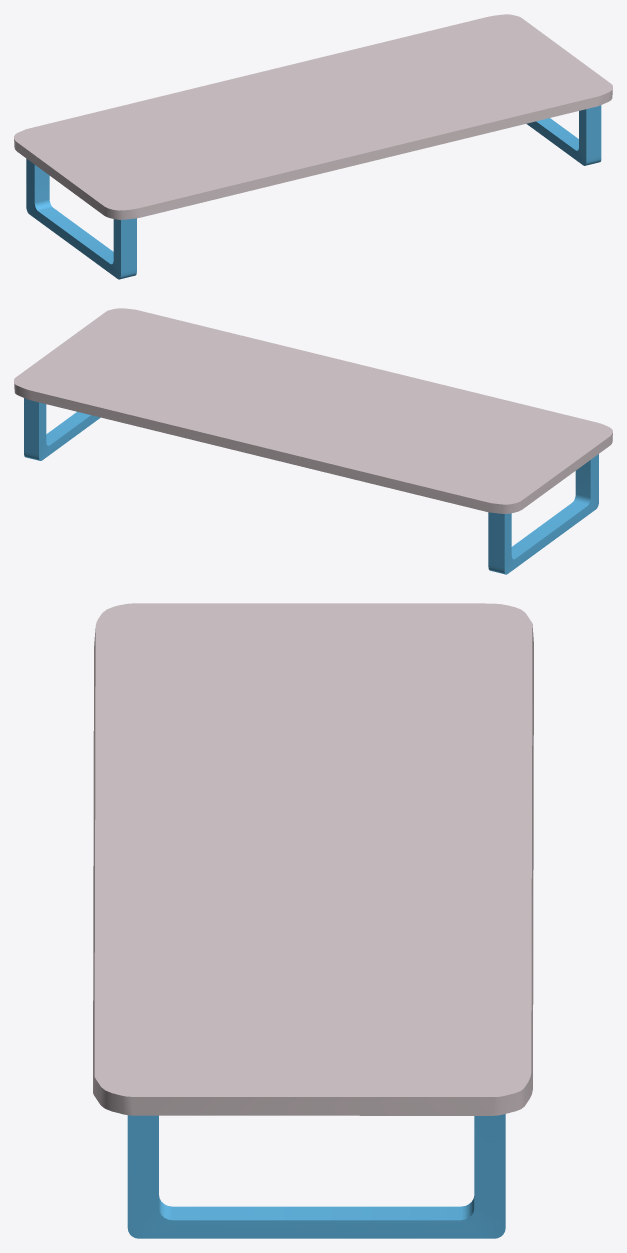
File: table long.fbx
3 renders of one model, top to bottom at view 1: azimuth 30°, elevation 25°; view 2: azimuth 150°, elevation 25°; view 3: azimuth 270°, elevation 25°, orthographic. The views are drawn at different scales.
Visible parts, largest first — view 1: table.010; view 2: table.010; view 3: table.010.
Part boxes in pixels (left/top/right/bottom): table.010: left=14, top=14, right=612, bottom=279; table.010: left=14, top=308, right=612, bottom=574; table.010: left=93, top=603, right=533, bottom=1238.
Bounding box in the file's own units: 9.1 × 1.31 × 3.43.
